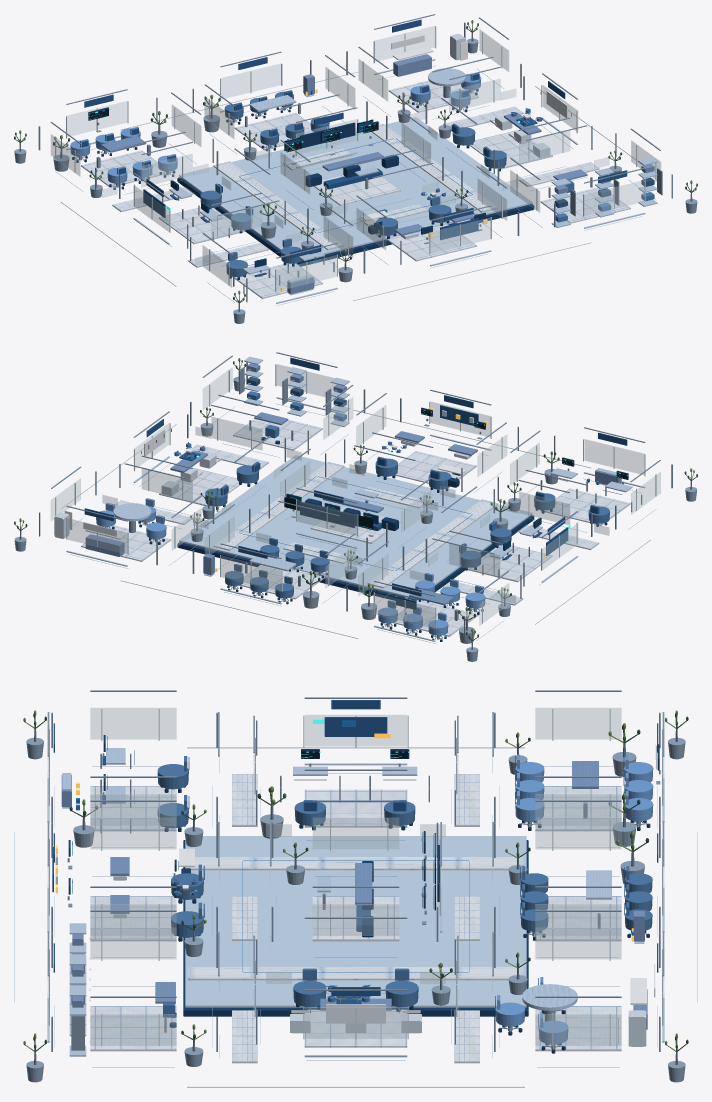
Rendered from office_environment.glb.
The picture shows the model from 3 angles, top to bottom: view 1: azimuth 30°, elevation 25°; view 2: azimuth 150°, elevation 25°; view 3: azimuth 270°, elevation 25°; orthographic projection. The views are drawn at different scales.
Visible parts, largest first — view 1: STATIC__PBR_|_Glass, STATIC__PBR_|_Stone, STATIC__PBR_|_Floor, STATIC__PBR_|_Steel, STATIC__PBR_|_Steel_Light, STATIC__PBR_|_Chair_Blue, STATIC__PBR_|_Oak_Light, STATIC__PBR_|_Navy, STATIC__PBR_|_Navy_Dark, STATIC__PBR_|_Oak, STATIC__PBR_|_Pot, STATIC__PBR_|_Chair_Orange (+14 smaller); view 2: STATIC__PBR_|_Glass, STATIC__PBR_|_Stone, STATIC__PBR_|_Floor, STATIC__PBR_|_Steel, STATIC__PBR_|_Chair_Blue, STATIC__PBR_|_Steel_Light, STATIC__PBR_|_Oak_Light, STATIC__PBR_|_Navy_Dark, STATIC__PBR_|_Oak, STATIC__PBR_|_Navy, STATIC__PBR_|_Chair_Orange, STATIC__PBR_|_Pot (+14 smaller); view 3: STATIC__PBR_|_Glass, STATIC__PBR_|_Stone, STATIC__PBR_|_Floor, STATIC__PBR_|_Steel, STATIC__PBR_|_Chair_Blue, STATIC__PBR_|_Steel_Light, STATIC__PBR_|_Oak_Light, STATIC__PBR_|_Pot, STATIC__PBR_|_Chair_Orange, STATIC__PBR_|_Navy_Dark, STATIC__PBR_|_Oak, ROOM_FLOOR__storage (+16 smaller).
Boxes of the visible parts, x1=… form: STATIC__PBR_|_Glass: x1=51, y1=26, x2=660, y2=290; STATIC__PBR_|_Stone: x1=179, y1=117, x2=532, y2=254; STATIC__PBR_|_Floor: x1=112, y1=106, x2=599, y2=267; STATIC__PBR_|_Steel: x1=38, y1=14, x2=672, y2=302; STATIC__PBR_|_Steel_Light: x1=55, y1=26, x2=656, y2=300; STATIC__PBR_|_Chair_Blue: x1=200, y1=90, x2=506, y2=276; STATIC__PBR_|_Oak_Light: x1=66, y1=59, x2=657, y2=303; STATIC__PBR_|_Navy: x1=82, y1=19, x2=627, y2=276; STATIC__PBR_|_Navy_Dark: x1=72, y1=89, x2=575, y2=279; STATIC__PBR_|_Oak: x1=101, y1=54, x2=654, y2=294; STATIC__PBR_|_Pot: x1=14, y1=38, x2=697, y2=323; STATIC__PBR_|_Chair_Orange: x1=70, y1=73, x2=481, y2=183; STATIC__PBR_|_Glass: x1=51, y1=364, x2=660, y2=628; STATIC__PBR_|_Stone: x1=179, y1=455, x2=532, y2=599; STATIC__PBR_|_Floor: x1=114, y1=444, x2=599, y2=605; STATIC__PBR_|_Steel: x1=39, y1=352, x2=672, y2=640; STATIC__PBR_|_Chair_Blue: x1=205, y1=456, x2=609, y2=598; STATIC__PBR_|_Steel_Light: x1=54, y1=364, x2=656, y2=638; STATIC__PBR_|_Oak_Light: x1=66, y1=356, x2=645, y2=641; STATIC__PBR_|_Navy_Dark: x1=112, y1=407, x2=628, y2=641; STATIC__PBR_|_Oak: x1=85, y1=363, x2=622, y2=605; STATIC__PBR_|_Navy: x1=84, y1=357, x2=627, y2=614; STATIC__PBR_|_Chair_Orange: x1=96, y1=498, x2=485, y2=635; STATIC__PBR_|_Pot: x1=14, y1=376, x2=697, y2=661; STATIC__PBR_|_Glass: x1=47, y1=708, x2=664, y2=1057; STATIC__PBR_|_Stone: x1=185, y1=836, x2=526, y2=1007; STATIC__PBR_|_Floor: x1=188, y1=774, x2=523, y2=1063; STATIC__PBR_|_Steel: x1=47, y1=690, x2=664, y2=1051; STATIC__PBR_|_Chair_Blue: x1=157, y1=756, x2=652, y2=1007; STATIC__PBR_|_Steel_Light: x1=14, y1=708, x2=697, y2=1087; STATIC__PBR_|_Oak_Light: x1=47, y1=748, x2=664, y2=1057; STATIC__PBR_|_Pot: x1=26, y1=737, x2=685, y2=1082; STATIC__PBR_|_Chair_Orange: x1=495, y1=754, x2=653, y2=1044; STATIC__PBR_|_Navy_Dark: x1=68, y1=735, x2=659, y2=1053; STATIC__PBR_|_Oak: x1=61, y1=750, x2=647, y2=1029; ROOM_FLOOR__storage: x1=90, y1=1006, x2=176, y2=1051.
Bounding box in the file's own units: 16.98 × 2.04 × 14.46.
Materials: 29 (3 with a texture image).
